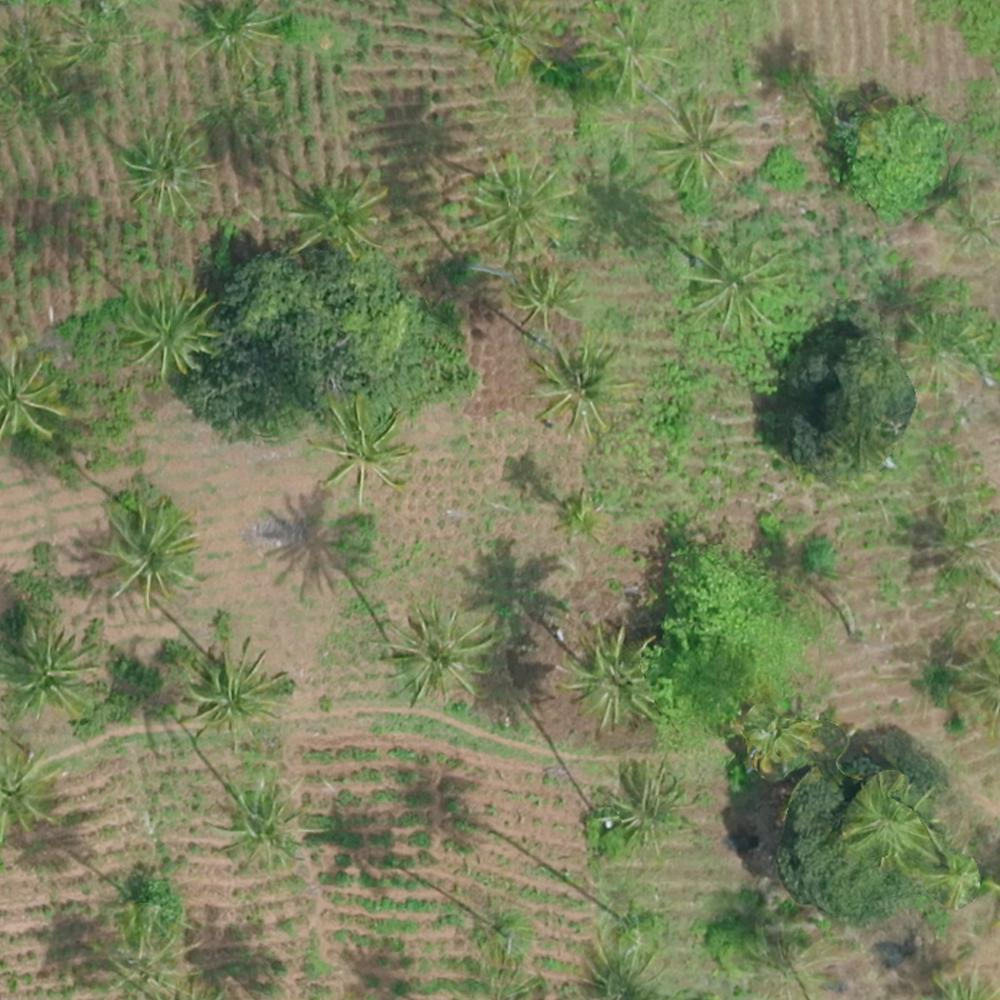Palm: (465, 150, 572, 258), (686, 230, 787, 342), (88, 492, 192, 600), (383, 600, 492, 699), (112, 276, 216, 379), (1, 619, 100, 725), (187, 643, 287, 747), (562, 630, 666, 730), (314, 401, 414, 499), (121, 124, 214, 226), (217, 778, 311, 875), (655, 91, 746, 189), (294, 166, 387, 258), (531, 342, 626, 427), (511, 263, 587, 333)
